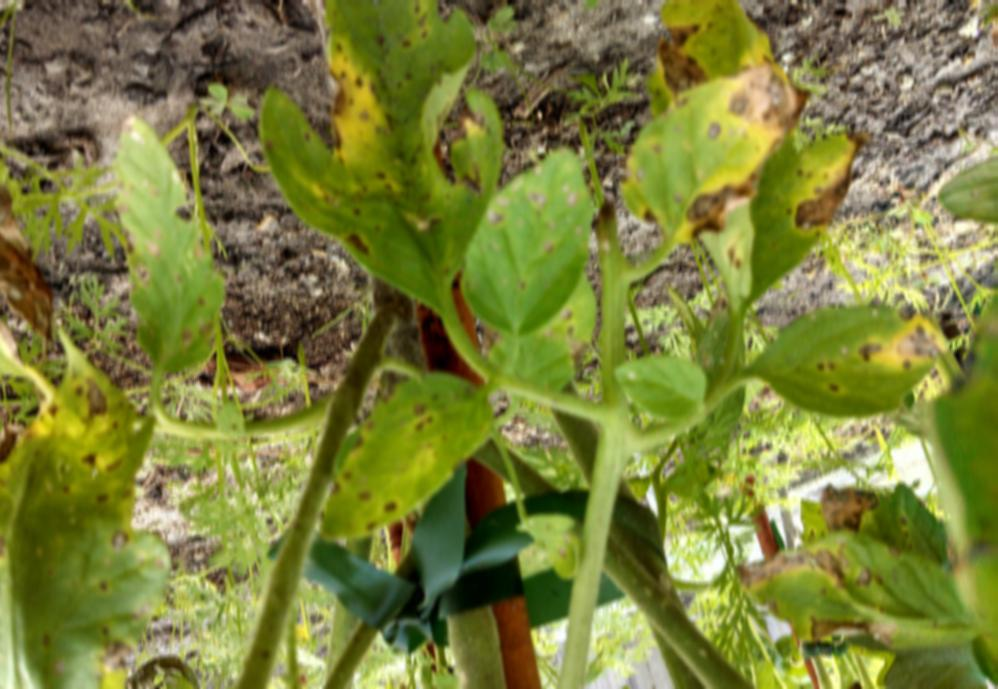Tomato Septoria leaf spot: (255, 0, 527, 314), (83, 76, 244, 419), (713, 105, 901, 316), (611, 61, 783, 291), (308, 358, 503, 544), (456, 138, 608, 352), (759, 301, 956, 431)
